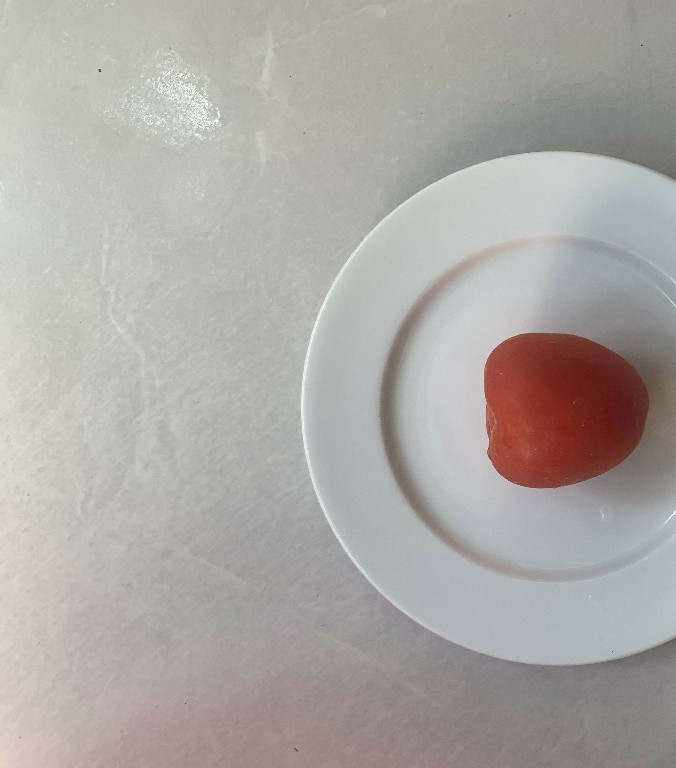OK: (476, 324, 659, 491)
